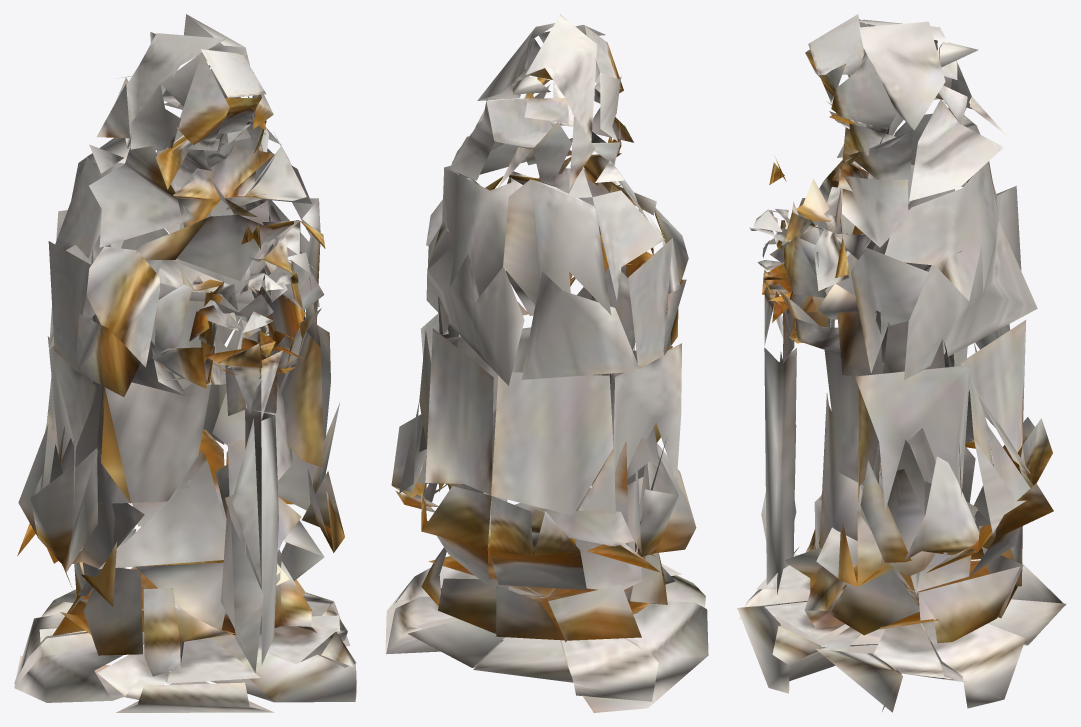
File: o-statue-semis.glb
3 views of the same model, side by side, from view 1: azimuth 30°, elevation 25°; view 2: azimuth 150°, elevation 25°; view 3: azimuth 270°, elevation 25° (orthographic). The views are drawn at different scales.
Parts seen in each view (by area): view 1: o-statue-semis; view 2: o-statue-semis; view 3: o-statue-semis.
Boxes of the visible parts, <box> form: o-statue-semis: <box>14,14,356,712</box>; o-statue-semis: <box>385,14,708,712</box>; o-statue-semis: <box>737,14,1066,712</box>.
Bounding box in the file's own units: 0.467 × 0.9588 × 0.4524.
Materials: 1 (1 with a texture image).
